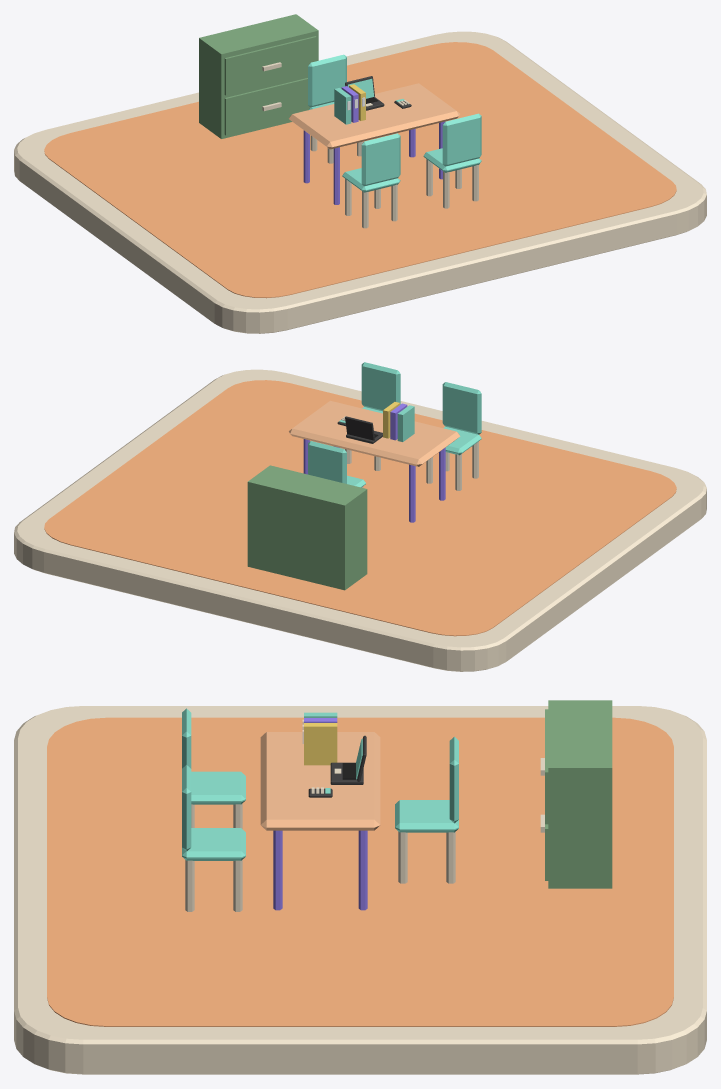
File: room.fbx
3 views of the same model, one above another, from view 1: azimuth 30°, elevation 25°; view 2: azimuth 150°, elevation 25°; view 3: azimuth 270°, elevation 25° (orthographic). The views are drawn at different scales.
Visible parts, largest first — view 1: COM-02 Floor Surface, COM-01 Rounded Base Direct, Cabinet, Rounded table top, Backrest, Backrest.001, Backrest.002, File, Seat, Seat.001; view 2: COM-02 Floor Surface, COM-01 Rounded Base Direct, Cabinet, Rounded table top, Backrest, Backrest.001, Backrest.002, File, Seat, Hinged display; view 3: COM-02 Floor Surface, COM-01 Rounded Base Direct, Cabinet, Rounded table top, Seat.002, Seat.001, Seat, File.002, Backrest.001, Backrest.002, Leg.002, Leg.003.
Boxes of the visible parts, box(x1,y1,x2,y2) form: COM-02 Floor Surface: box(44, 42, 676, 298); COM-01 Rounded Base Direct: box(14, 31, 706, 333); Cabinet: box(199, 14, 318, 138); Rounded table top: box(289, 83, 459, 149); Backrest: box(361, 133, 400, 186); Backrest.001: box(442, 113, 481, 166); Backrest.002: box(308, 54, 346, 107); File: box(334, 88, 351, 124); Seat: box(342, 168, 400, 192); Seat.001: box(423, 148, 481, 172); COM-02 Floor Surface: box(44, 380, 676, 636); COM-01 Rounded Base Direct: box(14, 369, 706, 671); Cabinet: box(247, 465, 367, 590); Rounded table top: box(289, 400, 460, 466); Backrest: box(442, 382, 481, 434); Backrest.001: box(361, 362, 400, 411); Backrest.002: box(308, 441, 346, 483); File: box(397, 405, 414, 441); Seat: box(443, 426, 481, 455); Hinged display: box(345, 416, 374, 440); COM-02 Floor Surface: box(47, 717, 673, 1026); COM-01 Rounded Base Direct: box(14, 706, 706, 1074); Cabinet: box(540, 700, 612, 888); Rounded table top: box(260, 732, 380, 830); Seat.002: box(395, 800, 458, 832); Seat.001: box(182, 828, 245, 860); Seat: box(191, 771, 245, 804); File.002: box(304, 723, 337, 765); Backrest.001: box(182, 765, 191, 851); Backrest.002: box(449, 736, 458, 823); Leg.002: box(273, 830, 282, 910); Leg.003: box(358, 830, 367, 910).
Size of the model in its own units: 600 by 142 by 520.
